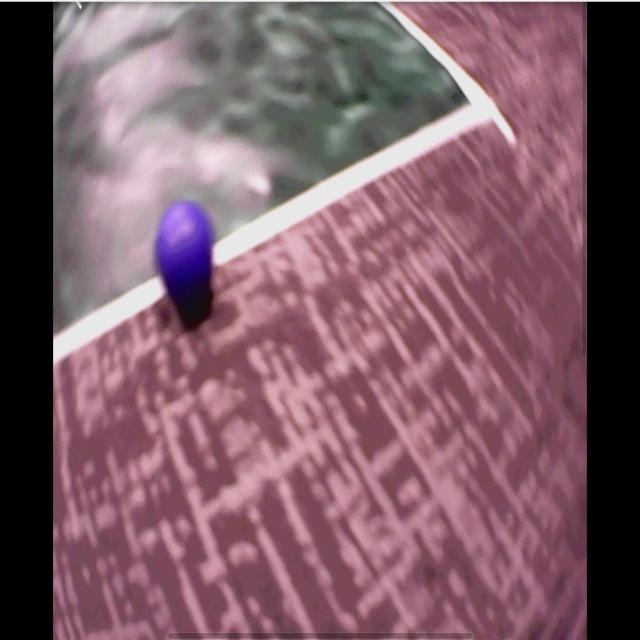ball: (157, 201, 214, 298)
